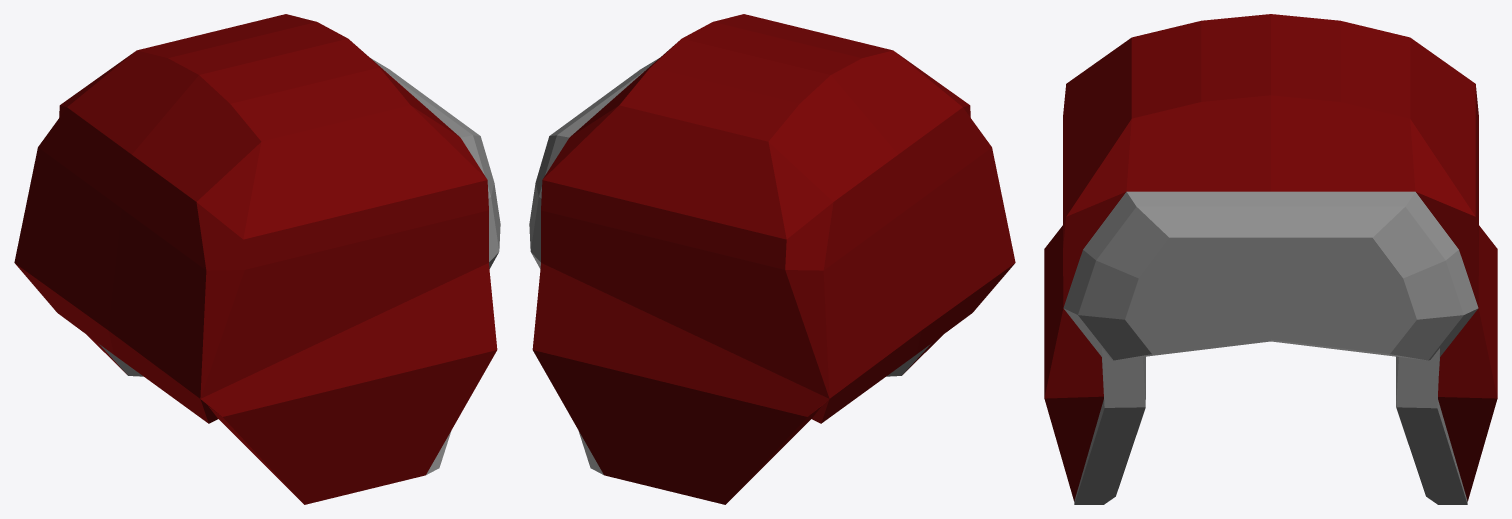
The model's file is Gorro Leñador.glb.
The picture shows the model from 3 angles, left to right: view 1: azimuth 30°, elevation 25°; view 2: azimuth 150°, elevation 25°; view 3: azimuth 270°, elevation 25°; orthographic projection. The views are drawn at different scales.
Parts seen in each view (by area): view 1: Cube; view 2: Cube; view 3: Cube.
Boxes of the visible parts, x1,y1,x2,y2 form: Cube: (14,14,500,504); Cube: (529,14,1015,504); Cube: (1044,14,1497,504).
Bounding box in the file's own units: 2.68 × 2.89 × 2.88.
